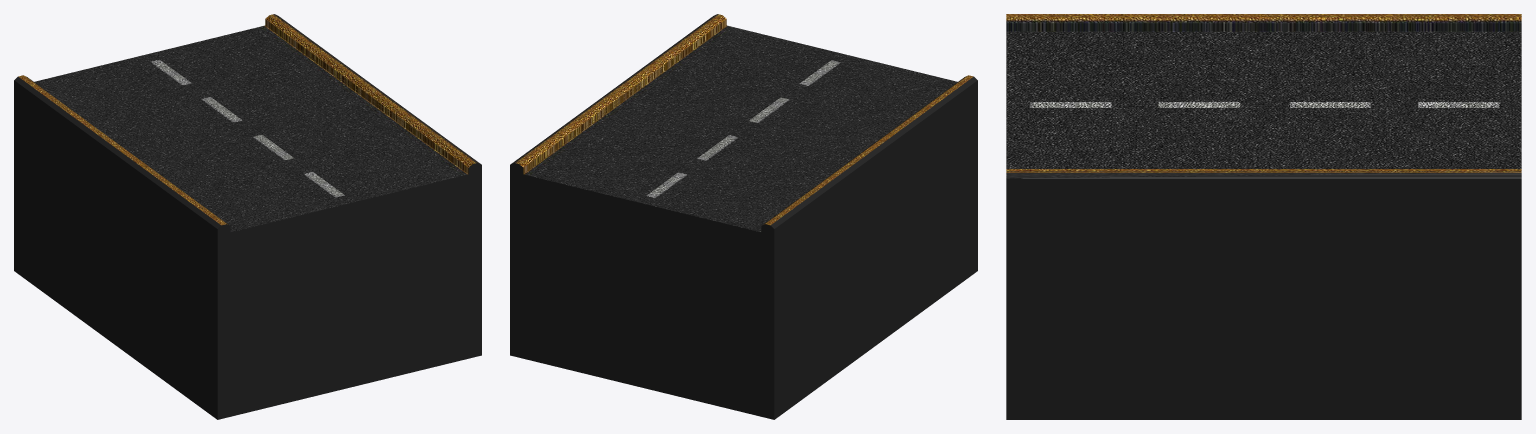
The model's file is road tile model.fbx.
The picture shows the model from 3 angles, left to right: view 1: azimuth 30°, elevation 25°; view 2: azimuth 150°, elevation 25°; view 3: azimuth 270°, elevation 25°; orthographic projection. The views are drawn at different scales.
Parts seen in each view (by area): view 1: RoadTile; view 2: RoadTile; view 3: RoadTile.
Part boxes in pixels (left/top/right/bottom): RoadTile: left=14, top=14, right=481, bottom=419; RoadTile: left=510, top=14, right=977, bottom=419; RoadTile: left=1006, top=14, right=1521, bottom=419.
Size of the model in its own units: 300 by 210 by 400.
